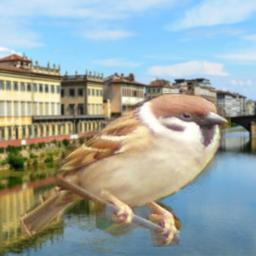Sparrow: (20, 93, 231, 247)
